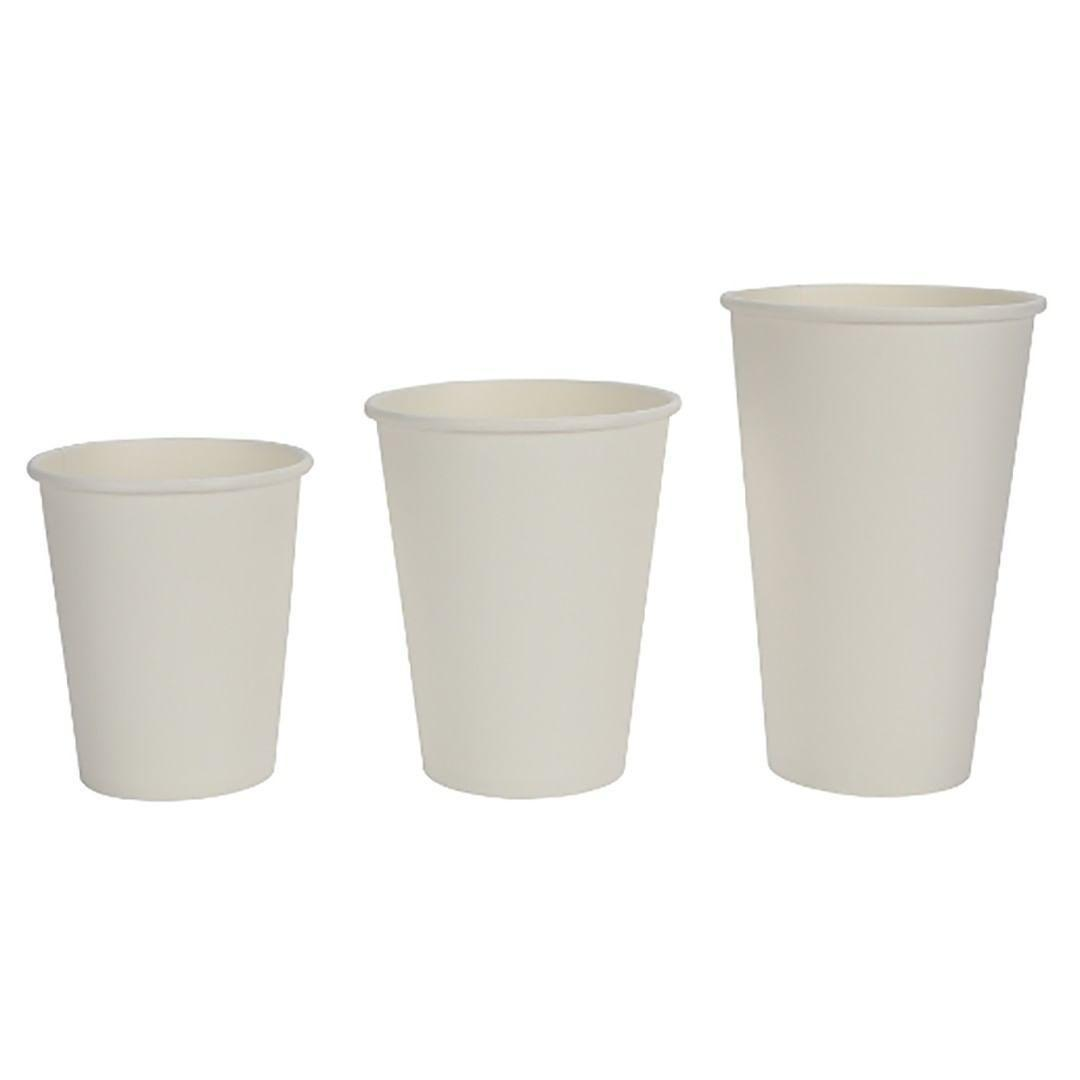cup-disposable: (709, 263, 1057, 813), (357, 367, 690, 813), (21, 421, 324, 817)
